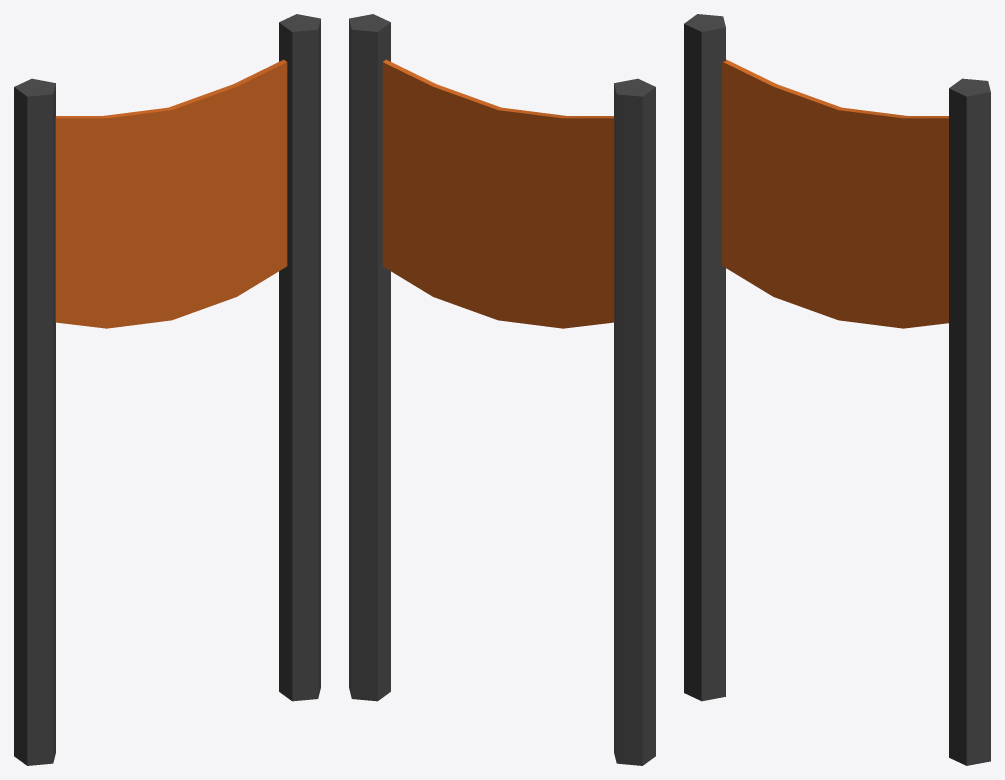
File: flag_01.fbx
The picture shows the model from 3 angles, left to right: view 1: azimuth 30°, elevation 25°; view 2: azimuth 150°, elevation 25°; view 3: azimuth 330°, elevation 25°; orthographic projection.
Visible parts, largest first — view 1: flag_3; view 2: flag_3; view 3: flag_3.
Boxes of the visible parts, x1,y1,x2,y2 form: flag_3: (14, 14, 320, 765); flag_3: (349, 14, 655, 765); flag_3: (684, 14, 990, 765).
Bounding box in the file's own units: 1.55 × 3.3 × 0.1922.
